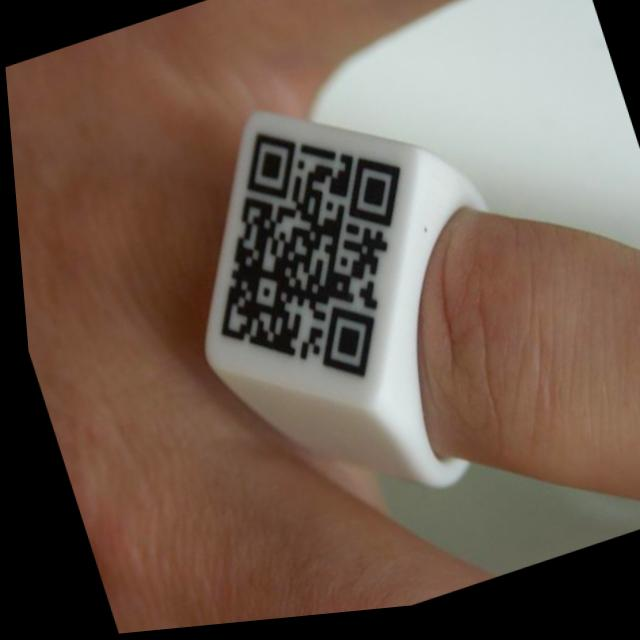qrcode: (161, 98, 452, 424)
